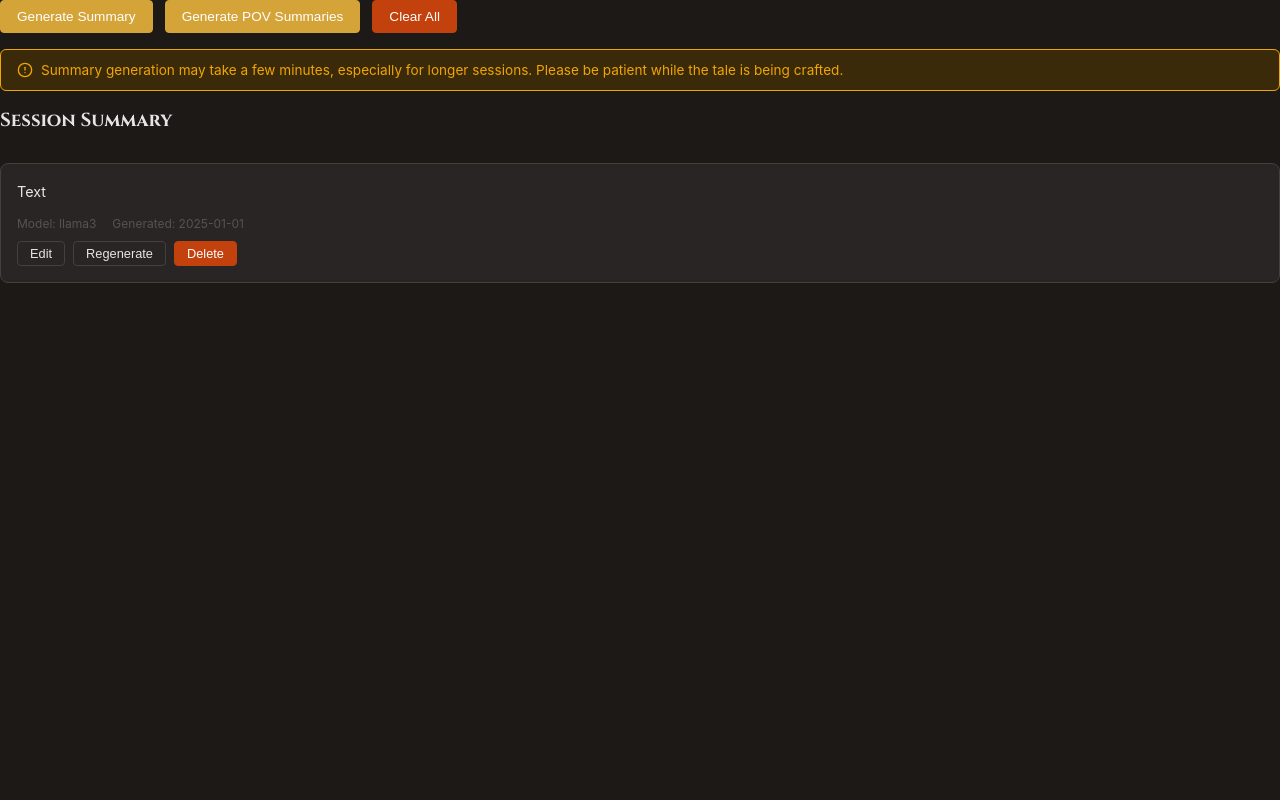
Test case: SummarySection › shows confirm dialog when Regenerate is clicked
The image size is (1280, 800).
Click the button "Regenerate".
click(120, 253)  # box top-left (73, 241), bottom-right (166, 266)
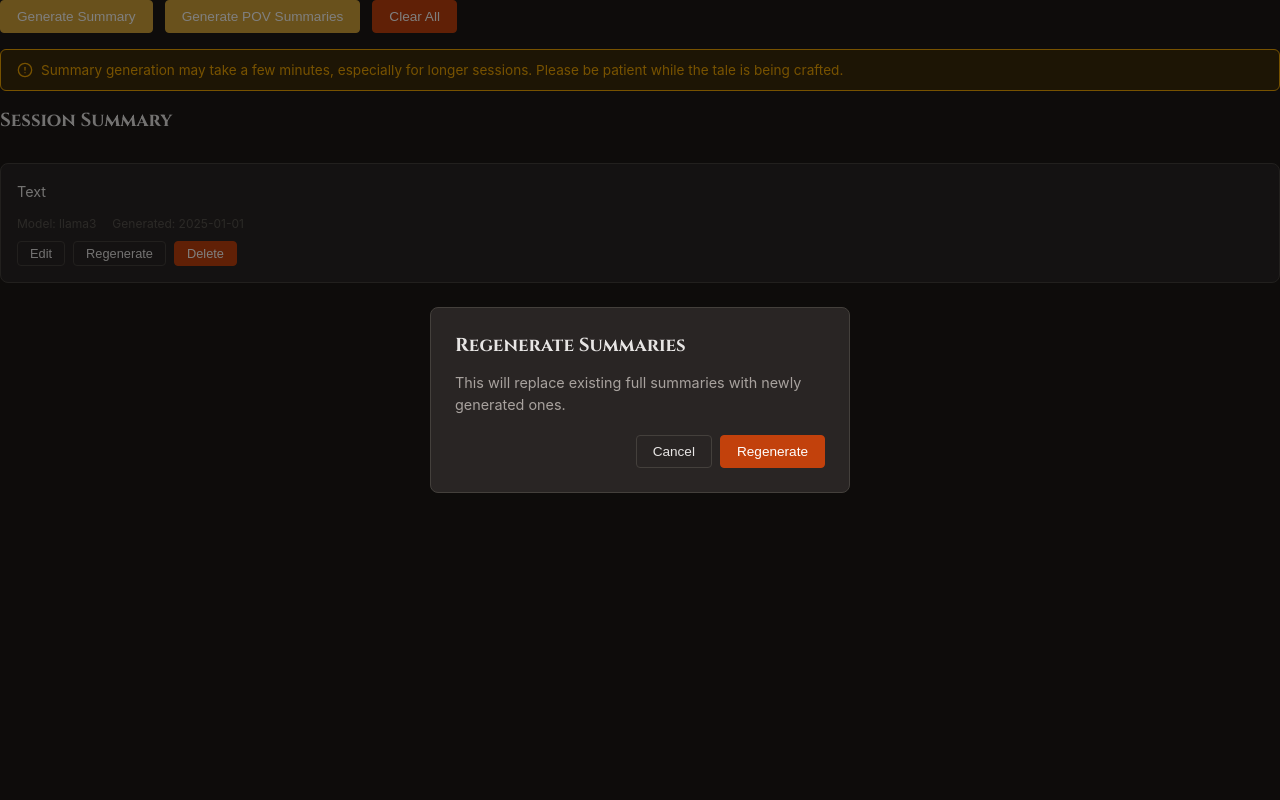
Now the heading "Regenerate Summaries" is shown, box top-left (455, 333), bottom-right (686, 358)
